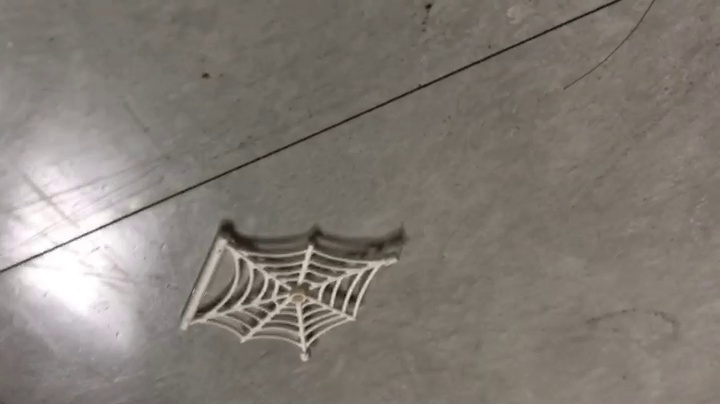web: (178, 220, 409, 362)
